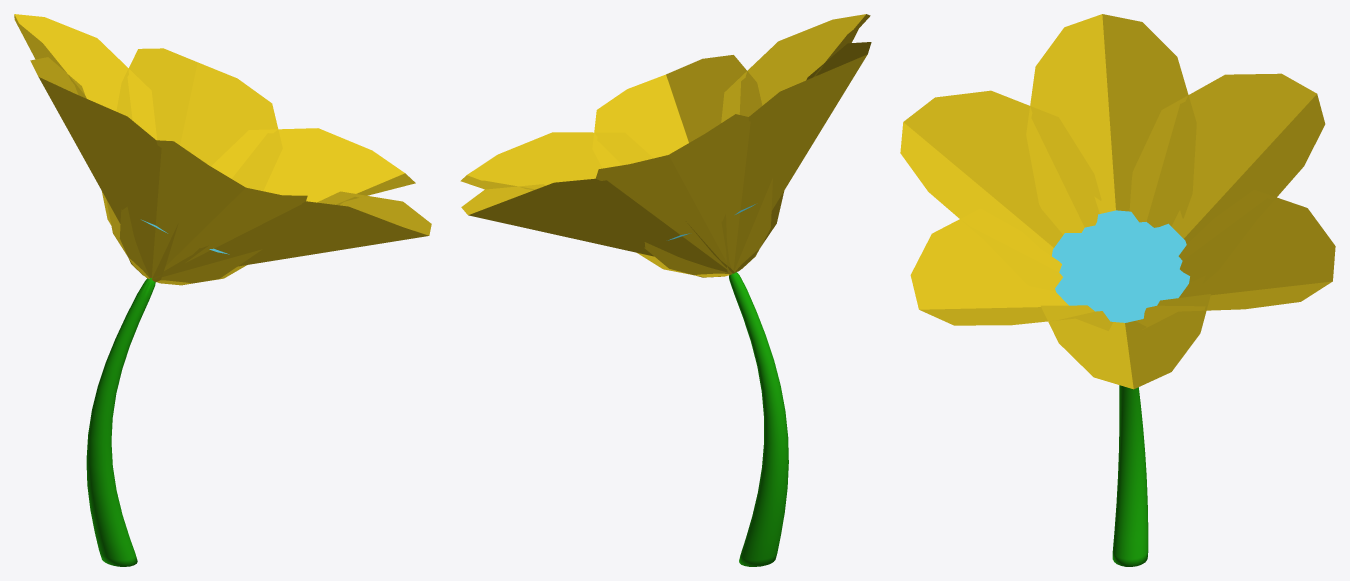
File: flower2.fbx
3 renders of one model, left to right at view 1: azimuth 30°, elevation 25°; view 2: azimuth 150°, elevation 25°; view 3: azimuth 270°, elevation 25°, orthographic. The views are drawn at different scales.
Parts seen in each view (by area): view 1: Circle, Cylinder; view 2: Circle, Cylinder; view 3: Circle, Circle.001, Cylinder.
Boxes of the visible parts, x1=… form: Circle: x1=14, y1=14, x2=431, y2=285; Cylinder: x1=86, y1=278, x2=155, y2=566; Circle: x1=460, y1=14, x2=871, y2=277; Cylinder: x1=729, y1=272, x2=788, y2=566; Circle: x1=900, y1=14, x2=1335, y2=389; Circle.001: x1=1052, y1=210, x2=1189, y2=322; Cylinder: x1=1112, y1=385, x2=1148, y2=566.
Bounding box in the file's own units: 74.62 × 96.64 × 76.03.
